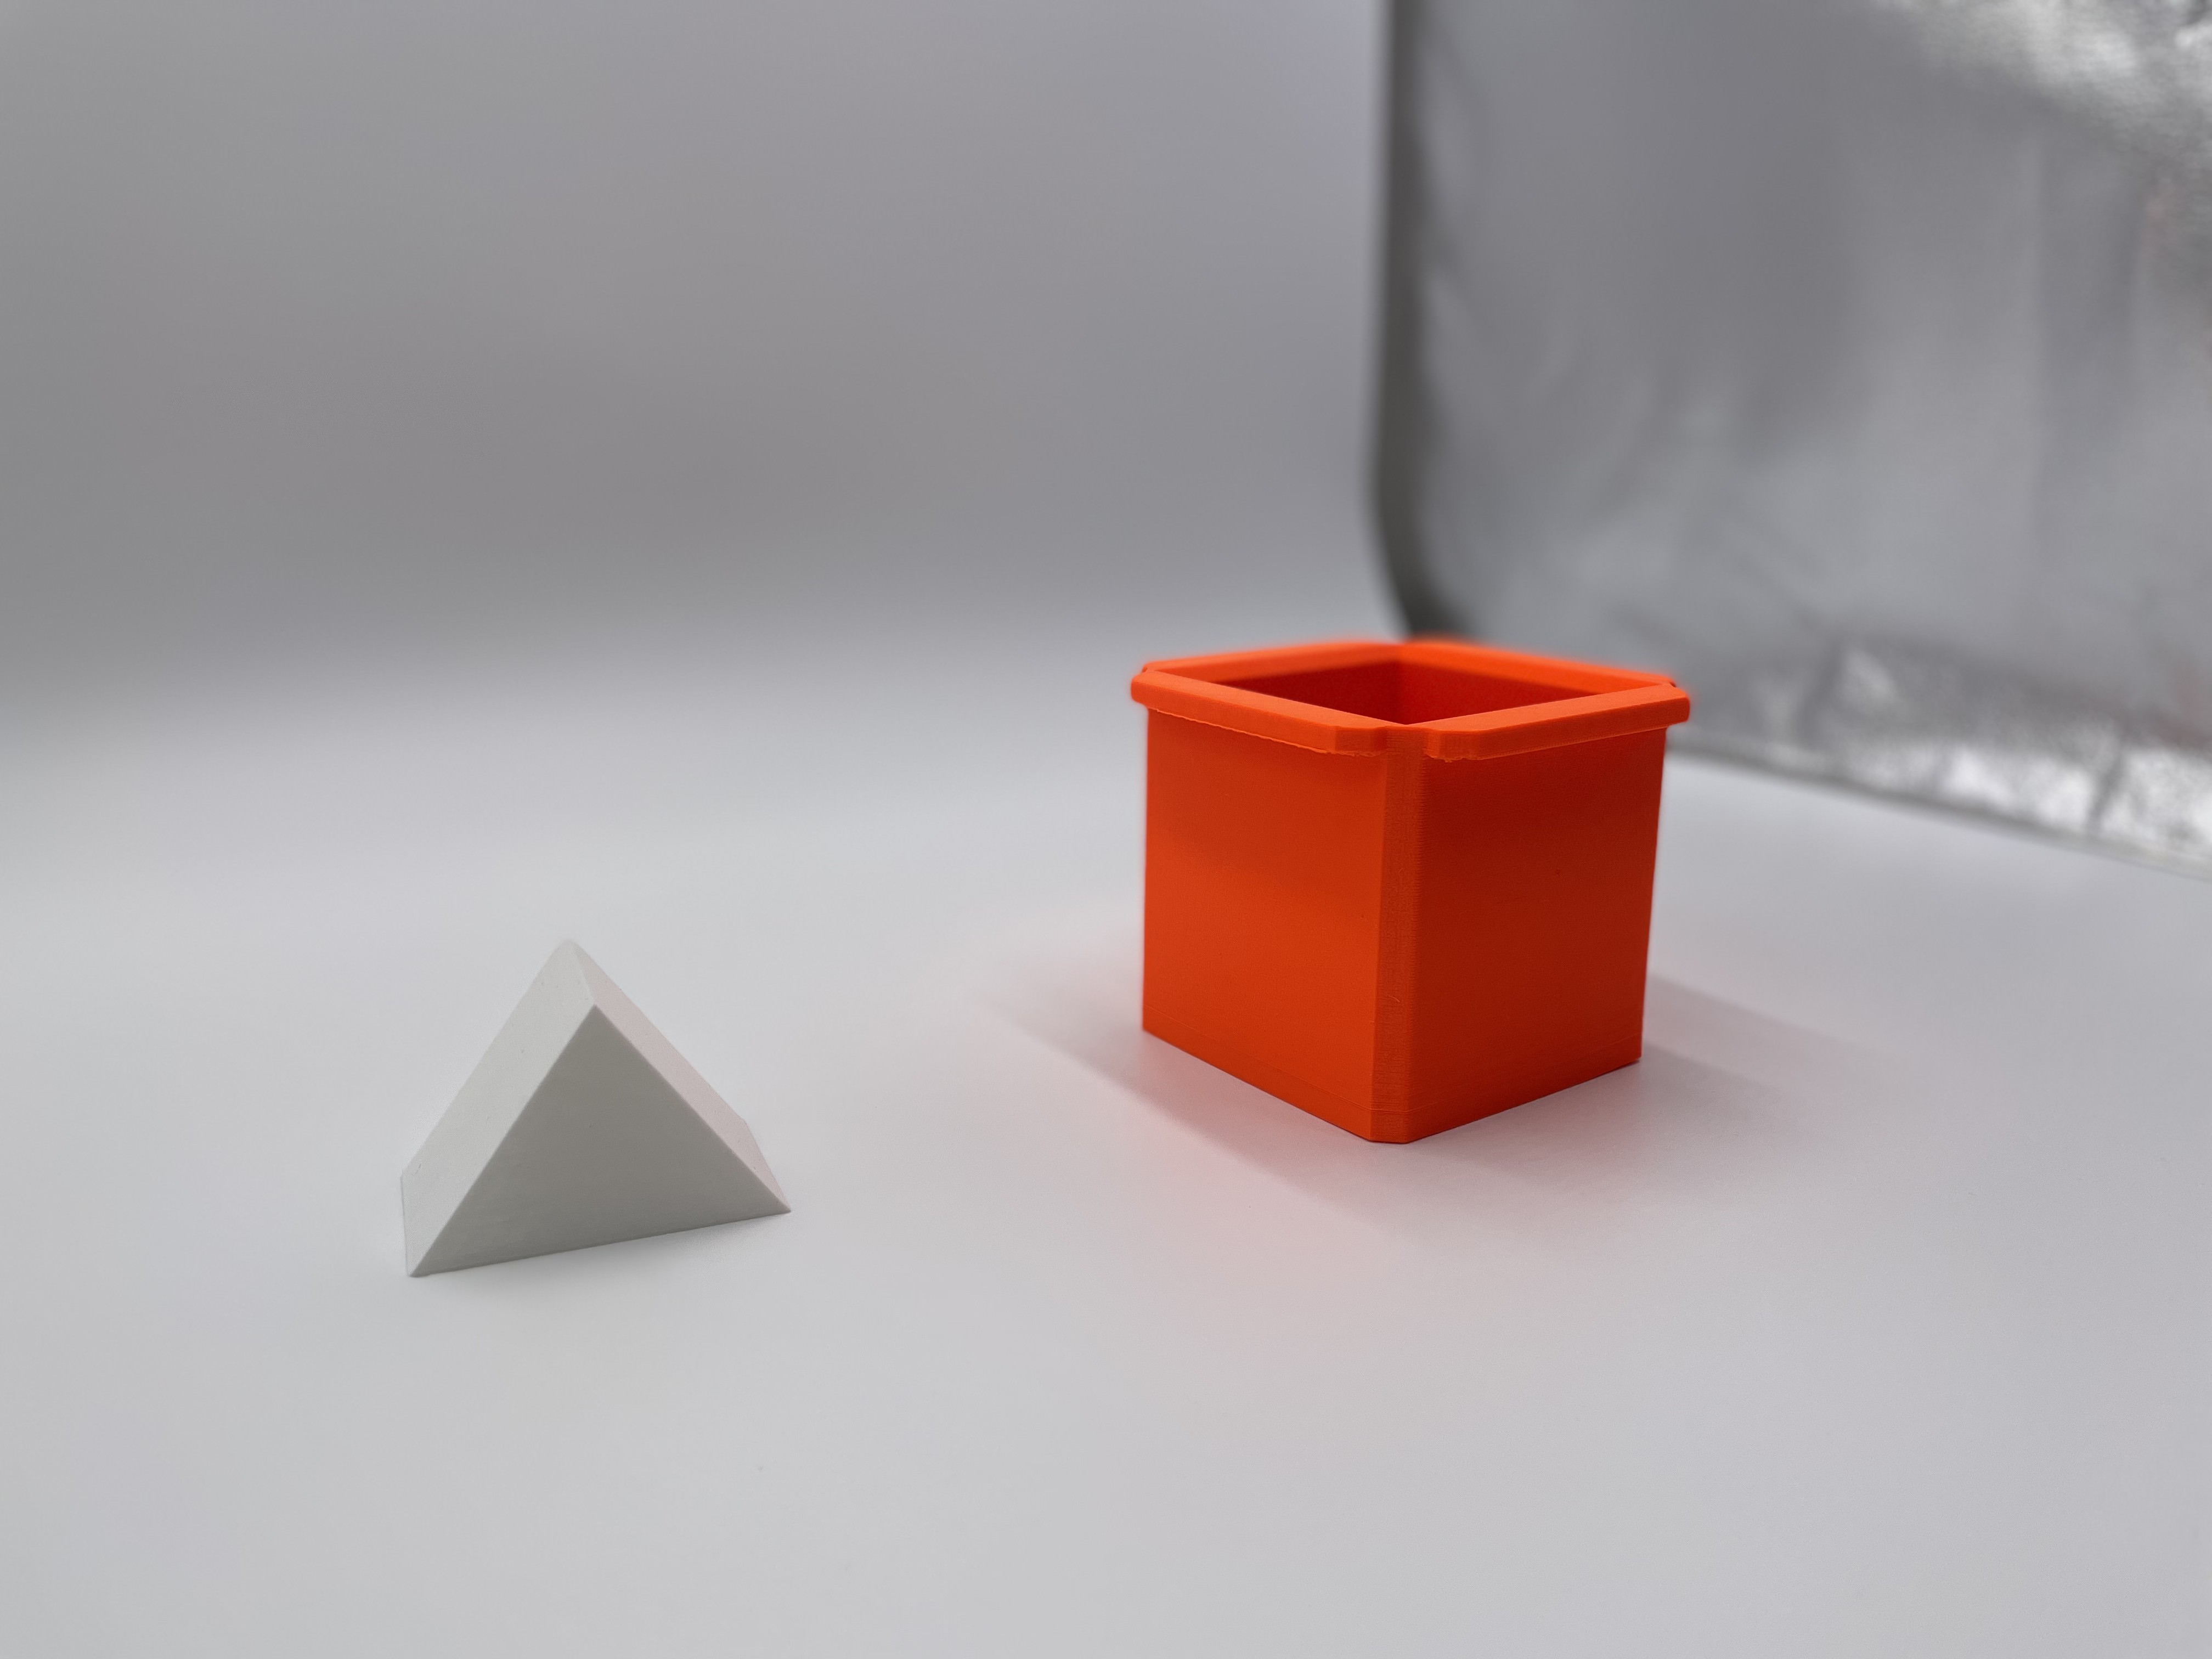payload1: (1103, 615, 1705, 1178)
payload2: (336, 901, 857, 1297)
